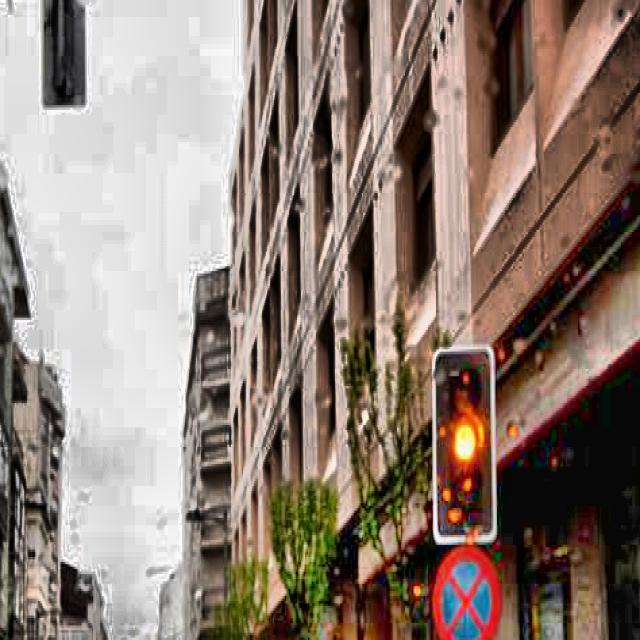yellow: (445, 367, 486, 531)
